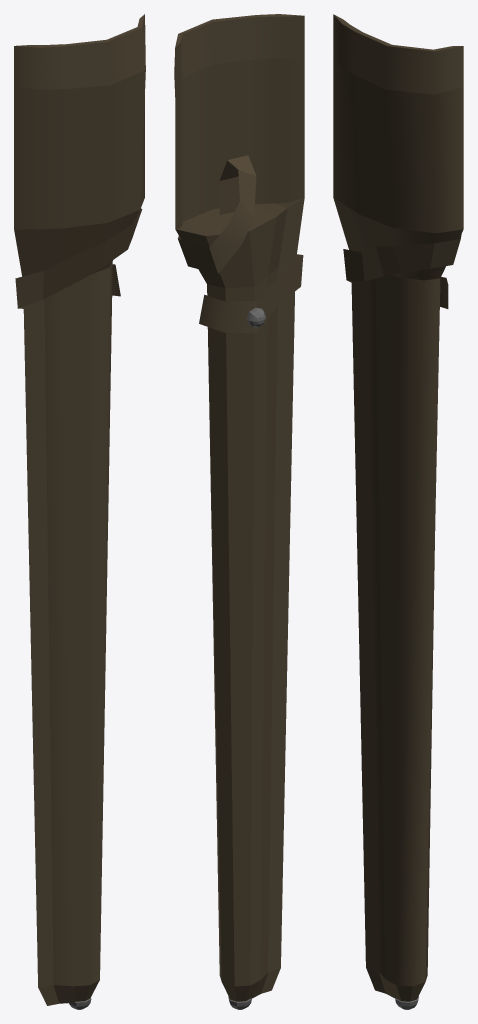
The model's file is bayonet_mosin_nagant_scabbard.fbx.
3 renders of one model, left to right at view 1: azimuth 30°, elevation 25°; view 2: azimuth 210°, elevation 25°; view 3: azimuth 330°, elevation 25°, orthographic.
Visible parts, largest first — view 1: bayonet_mosin_nagant_scabbard; view 2: bayonet_mosin_nagant_scabbard; view 3: bayonet_mosin_nagant_scabbard.
Boxes of the visible parts, x1,y1,x2,y2 form: bayonet_mosin_nagant_scabbard: (14, 14, 145, 1009); bayonet_mosin_nagant_scabbard: (174, 14, 304, 1009); bayonet_mosin_nagant_scabbard: (333, 14, 463, 1009).
Bounding box in the file's own units: 9.57 × 68.7 × 6.01.
